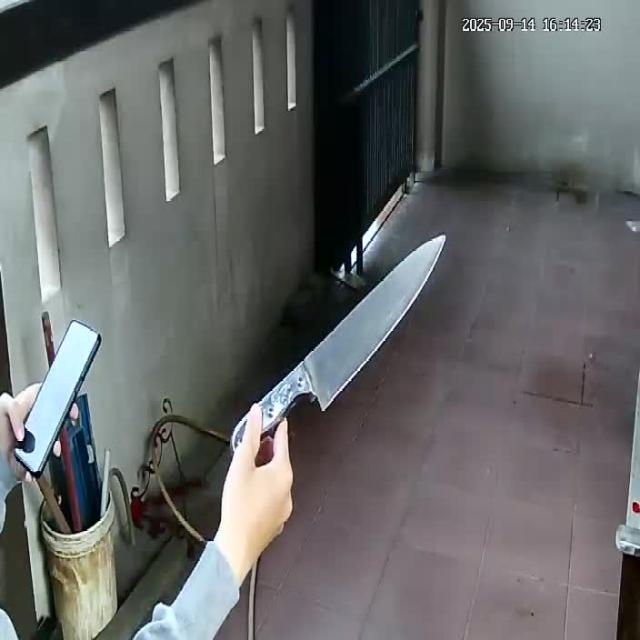senjata_tajam: (230, 230, 450, 454)
